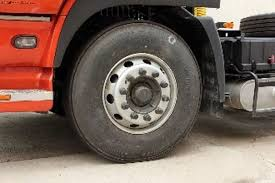tire: (68, 20, 202, 163), (240, 13, 275, 37)
